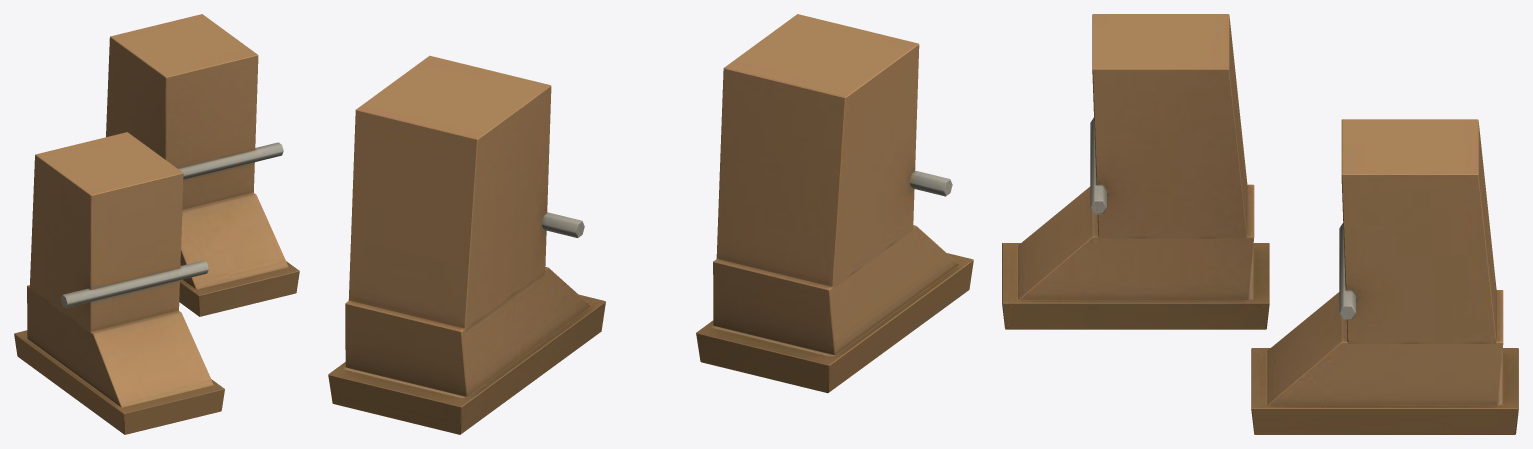
File: IT_boots_hide.glb
3 views of the same model, side by side, from view 1: azimuth 30°, elevation 25°; view 2: azimuth 150°, elevation 25°; view 3: azimuth 270°, elevation 25° (orthographic). The views are drawn at different scales.
Visible parts, largest first — view 1: IT_boots_hide; view 2: IT_boots_hide; view 3: IT_boots_hide.
Boxes of the visible parts, box(x1,y1,x2,y2) form: IT_boots_hide: box(14, 14, 299, 434); IT_boots_hide: box(328, 14, 973, 434); IT_boots_hide: box(1002, 14, 1518, 434).
Bounding box in the file's own units: 0.72 × 0.46 × 0.8298.
1 material, 1 textured.
